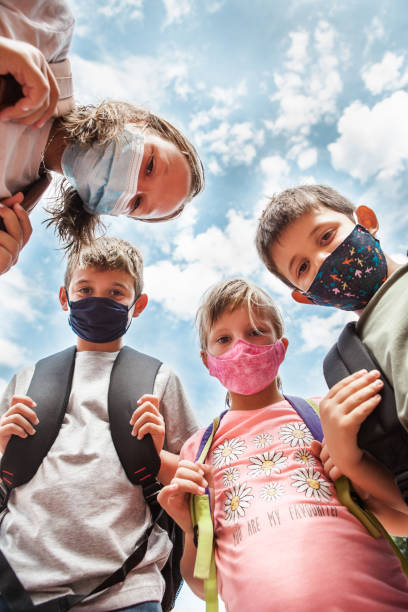with mask: (260, 191, 396, 315), (61, 105, 197, 229), (199, 287, 294, 394), (54, 255, 144, 346)
